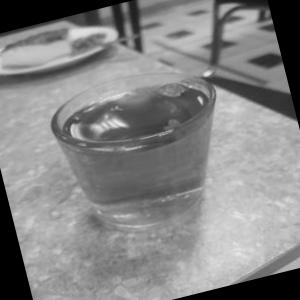tea: (20, 33, 250, 276)
